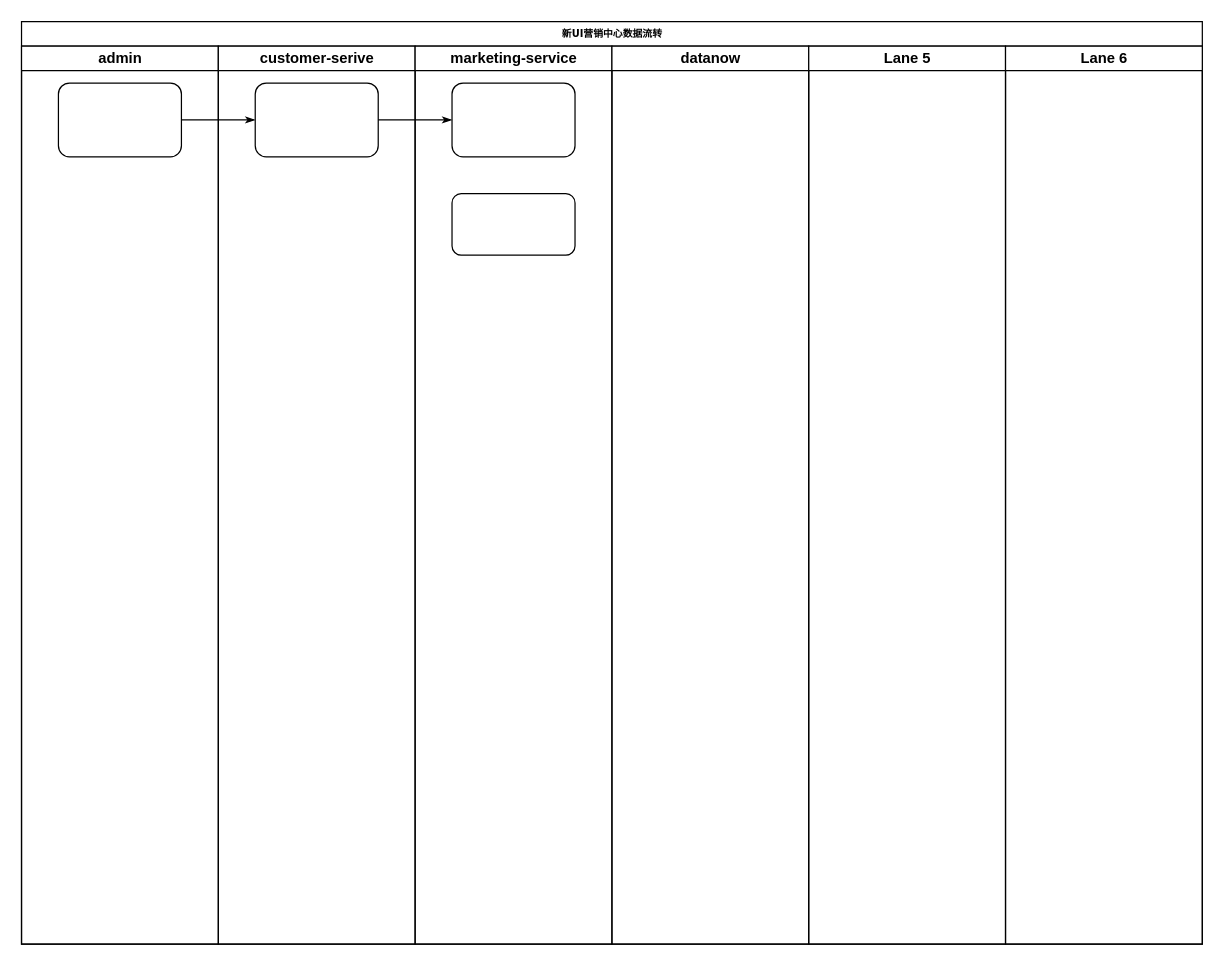
Some shapes in this 1224 by 966 pixel diagram are drawn without their labels. The centre of each missing label's shape, as x and y in pixels:
d365营销活动开始接口，fegin调用: the point at 316,119
启动营销活动接口，feign调用: the point at 119,119
营销活动开始接口: the point at 513,119
